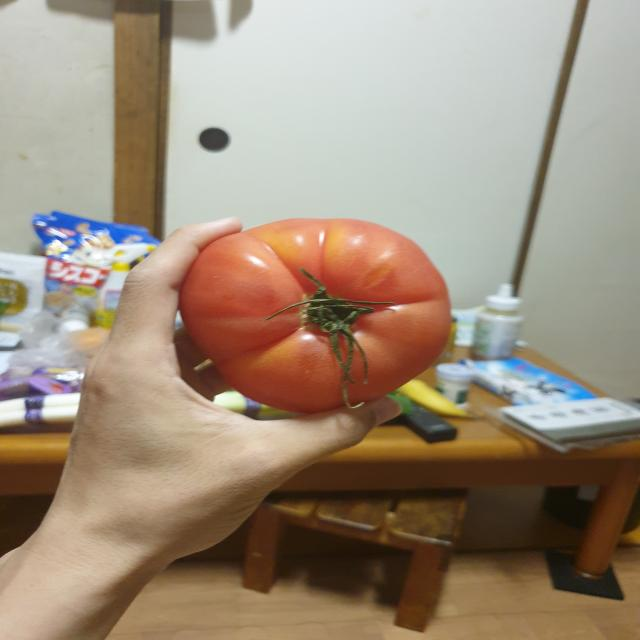tomato: (180, 220, 451, 417)
